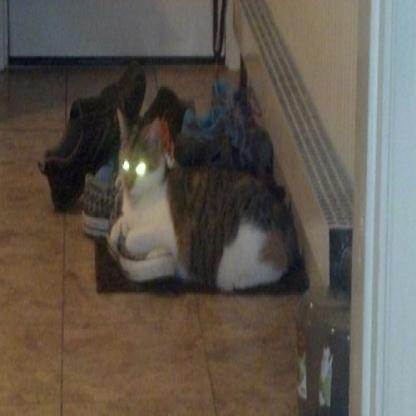Target: (113, 111, 299, 297)
